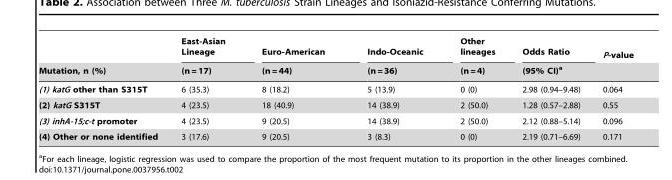table: (37, 36, 633, 140)
table column: (37, 36, 168, 140), (242, 36, 345, 140), (345, 36, 441, 140), (508, 36, 590, 140), (168, 36, 242, 140), (441, 36, 508, 140), (590, 36, 633, 140)
table column header: (37, 36, 633, 79)
table row: (37, 36, 633, 61), (37, 61, 633, 79), (37, 79, 633, 97), (37, 112, 633, 128), (37, 97, 633, 112), (37, 128, 633, 140)
table spanning cell: (37, 36, 168, 79), (242, 36, 345, 79), (345, 36, 441, 79), (508, 36, 590, 79), (168, 36, 242, 79), (441, 36, 508, 79), (590, 36, 633, 79)
